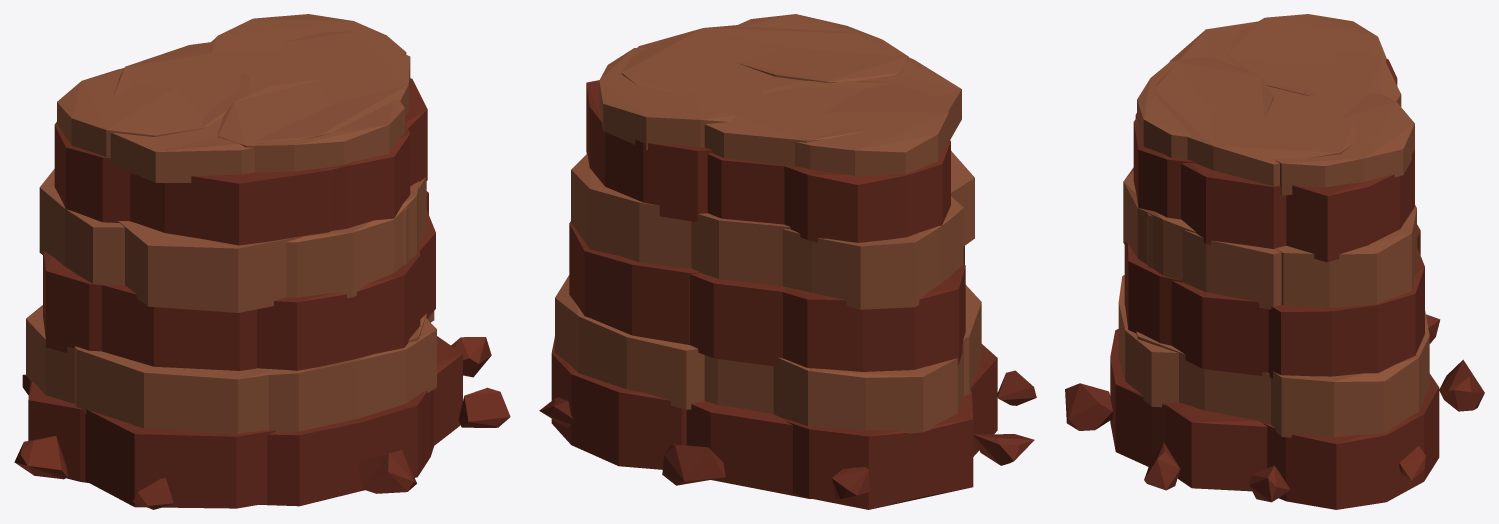
Rendered from roca_meseta.fbx.
The picture shows the model from 3 angles, left to right: view 1: azimuth 30°, elevation 25°; view 2: azimuth 150°, elevation 25°; view 3: azimuth 270°, elevation 25°; orthographic projection. The views are drawn at different scales.
Parts seen in each view (by area): view 1: roca_meseta; view 2: roca_meseta; view 3: roca_meseta.
Boxes of the visible parts, x1=… form: roca_meseta: x1=14, y1=14, x2=510, y2=509; roca_meseta: x1=539, y1=14, x2=1036, y2=509; roca_meseta: x1=1065, y1=14, x2=1484, y2=509.
Size of the model in its own units: 24.63 by 17.39 by 20.09.
